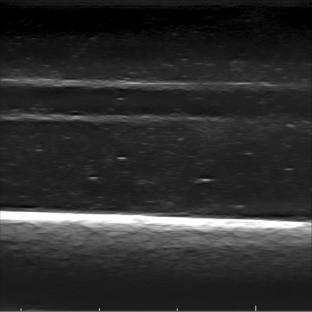vessel: (1, 78, 205, 128)
